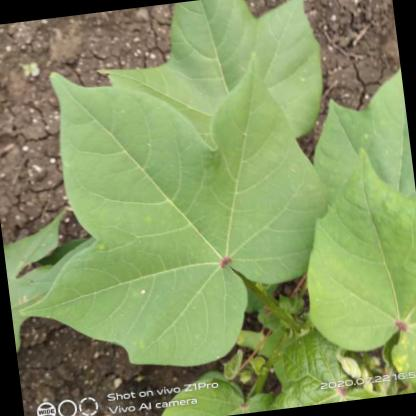cotton: (1, 34, 339, 386)
